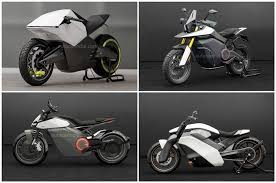motorcycle: (161, 5, 259, 90), (10, 103, 133, 170), (146, 112, 263, 180), (16, 10, 121, 85)
